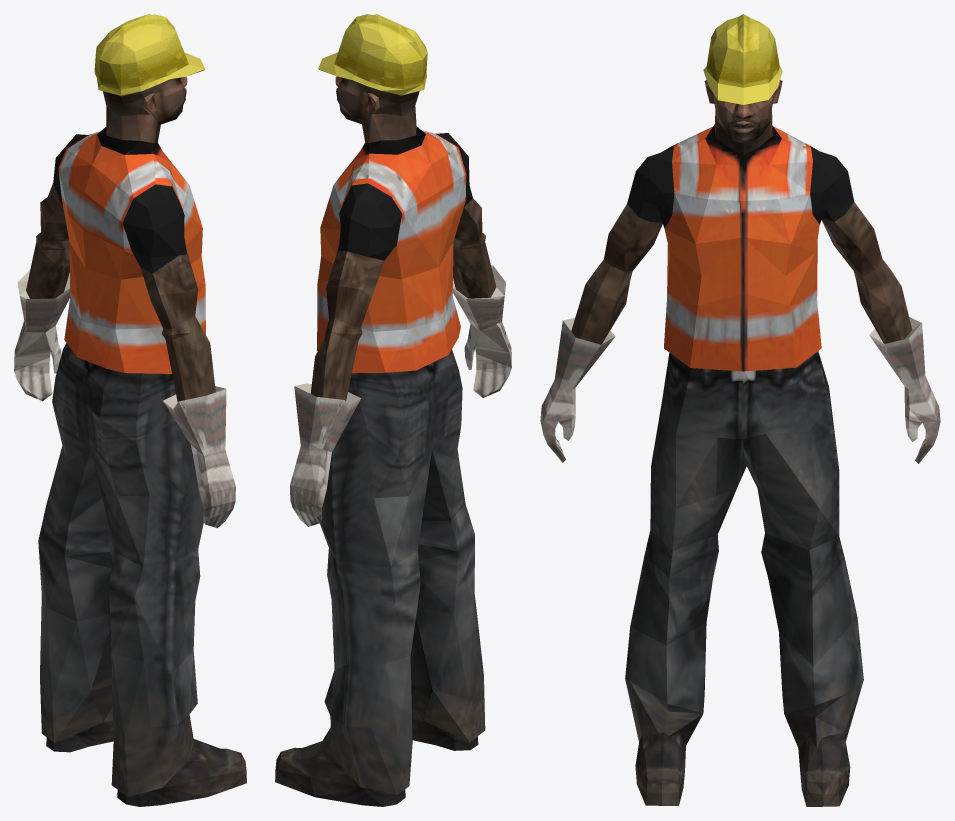
Rendered from bmycon.obj.
3 views of the same model, side by side, from view 1: azimuth 30°, elevation 25°; view 2: azimuth 150°, elevation 25°; view 3: azimuth 270°, elevation 25° (orthographic).
Parts seen in each view (by area): view 1: _Pelvis; view 2: _Pelvis; view 3: _Pelvis.
Part boxes in pixels (x1,y1,x2,y2): _Pelvis: (14, 14, 246, 806); _Pelvis: (275, 14, 511, 806); _Pelvis: (540, 14, 940, 806).
Bounding box in the file's own units: 0.3592 × 1.93 × 0.9203.
1 material, 1 textured.
